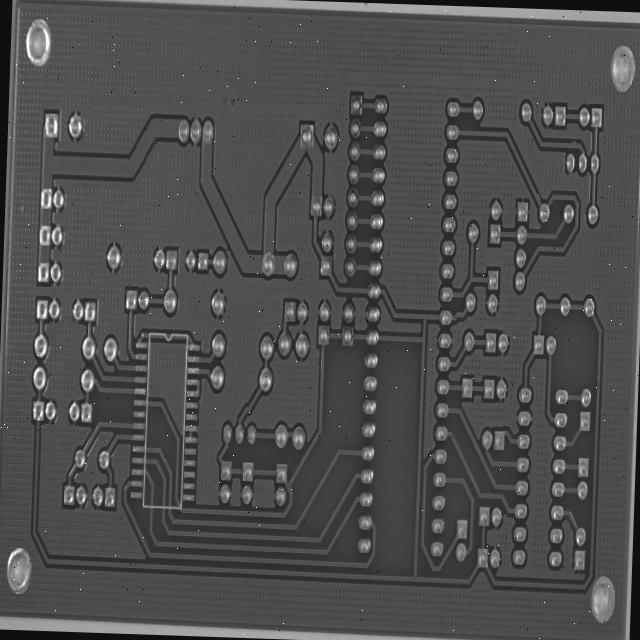spur: (531, 185, 542, 205), (569, 135, 577, 147)
